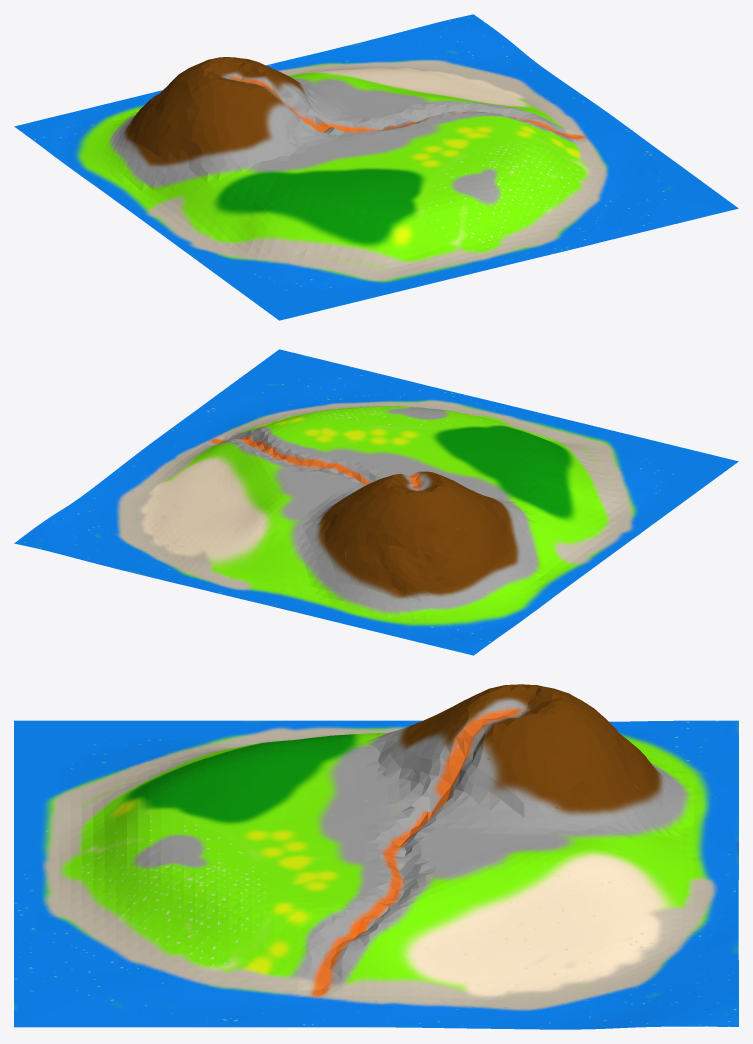
File: Painted osc_V1.glb
The picture shows the model from 3 angles, top to bottom: view 1: azimuth 30°, elevation 25°; view 2: azimuth 150°, elevation 25°; view 3: azimuth 270°, elevation 25°; orthographic projection. The views are drawn at different scales.
Parts seen in each view (by area): view 1: test-terrain02; view 2: test-terrain02; view 3: test-terrain02.
Part boxes in pixels (x1,y1,x2,y2): test-terrain02: (14, 14, 738, 320); test-terrain02: (14, 349, 738, 655); test-terrain02: (14, 684, 738, 1029).
Size of what is drawn, in the model's own units: 200 by 35.78 by 200.
Materials: 1 (1 with a texture image).
